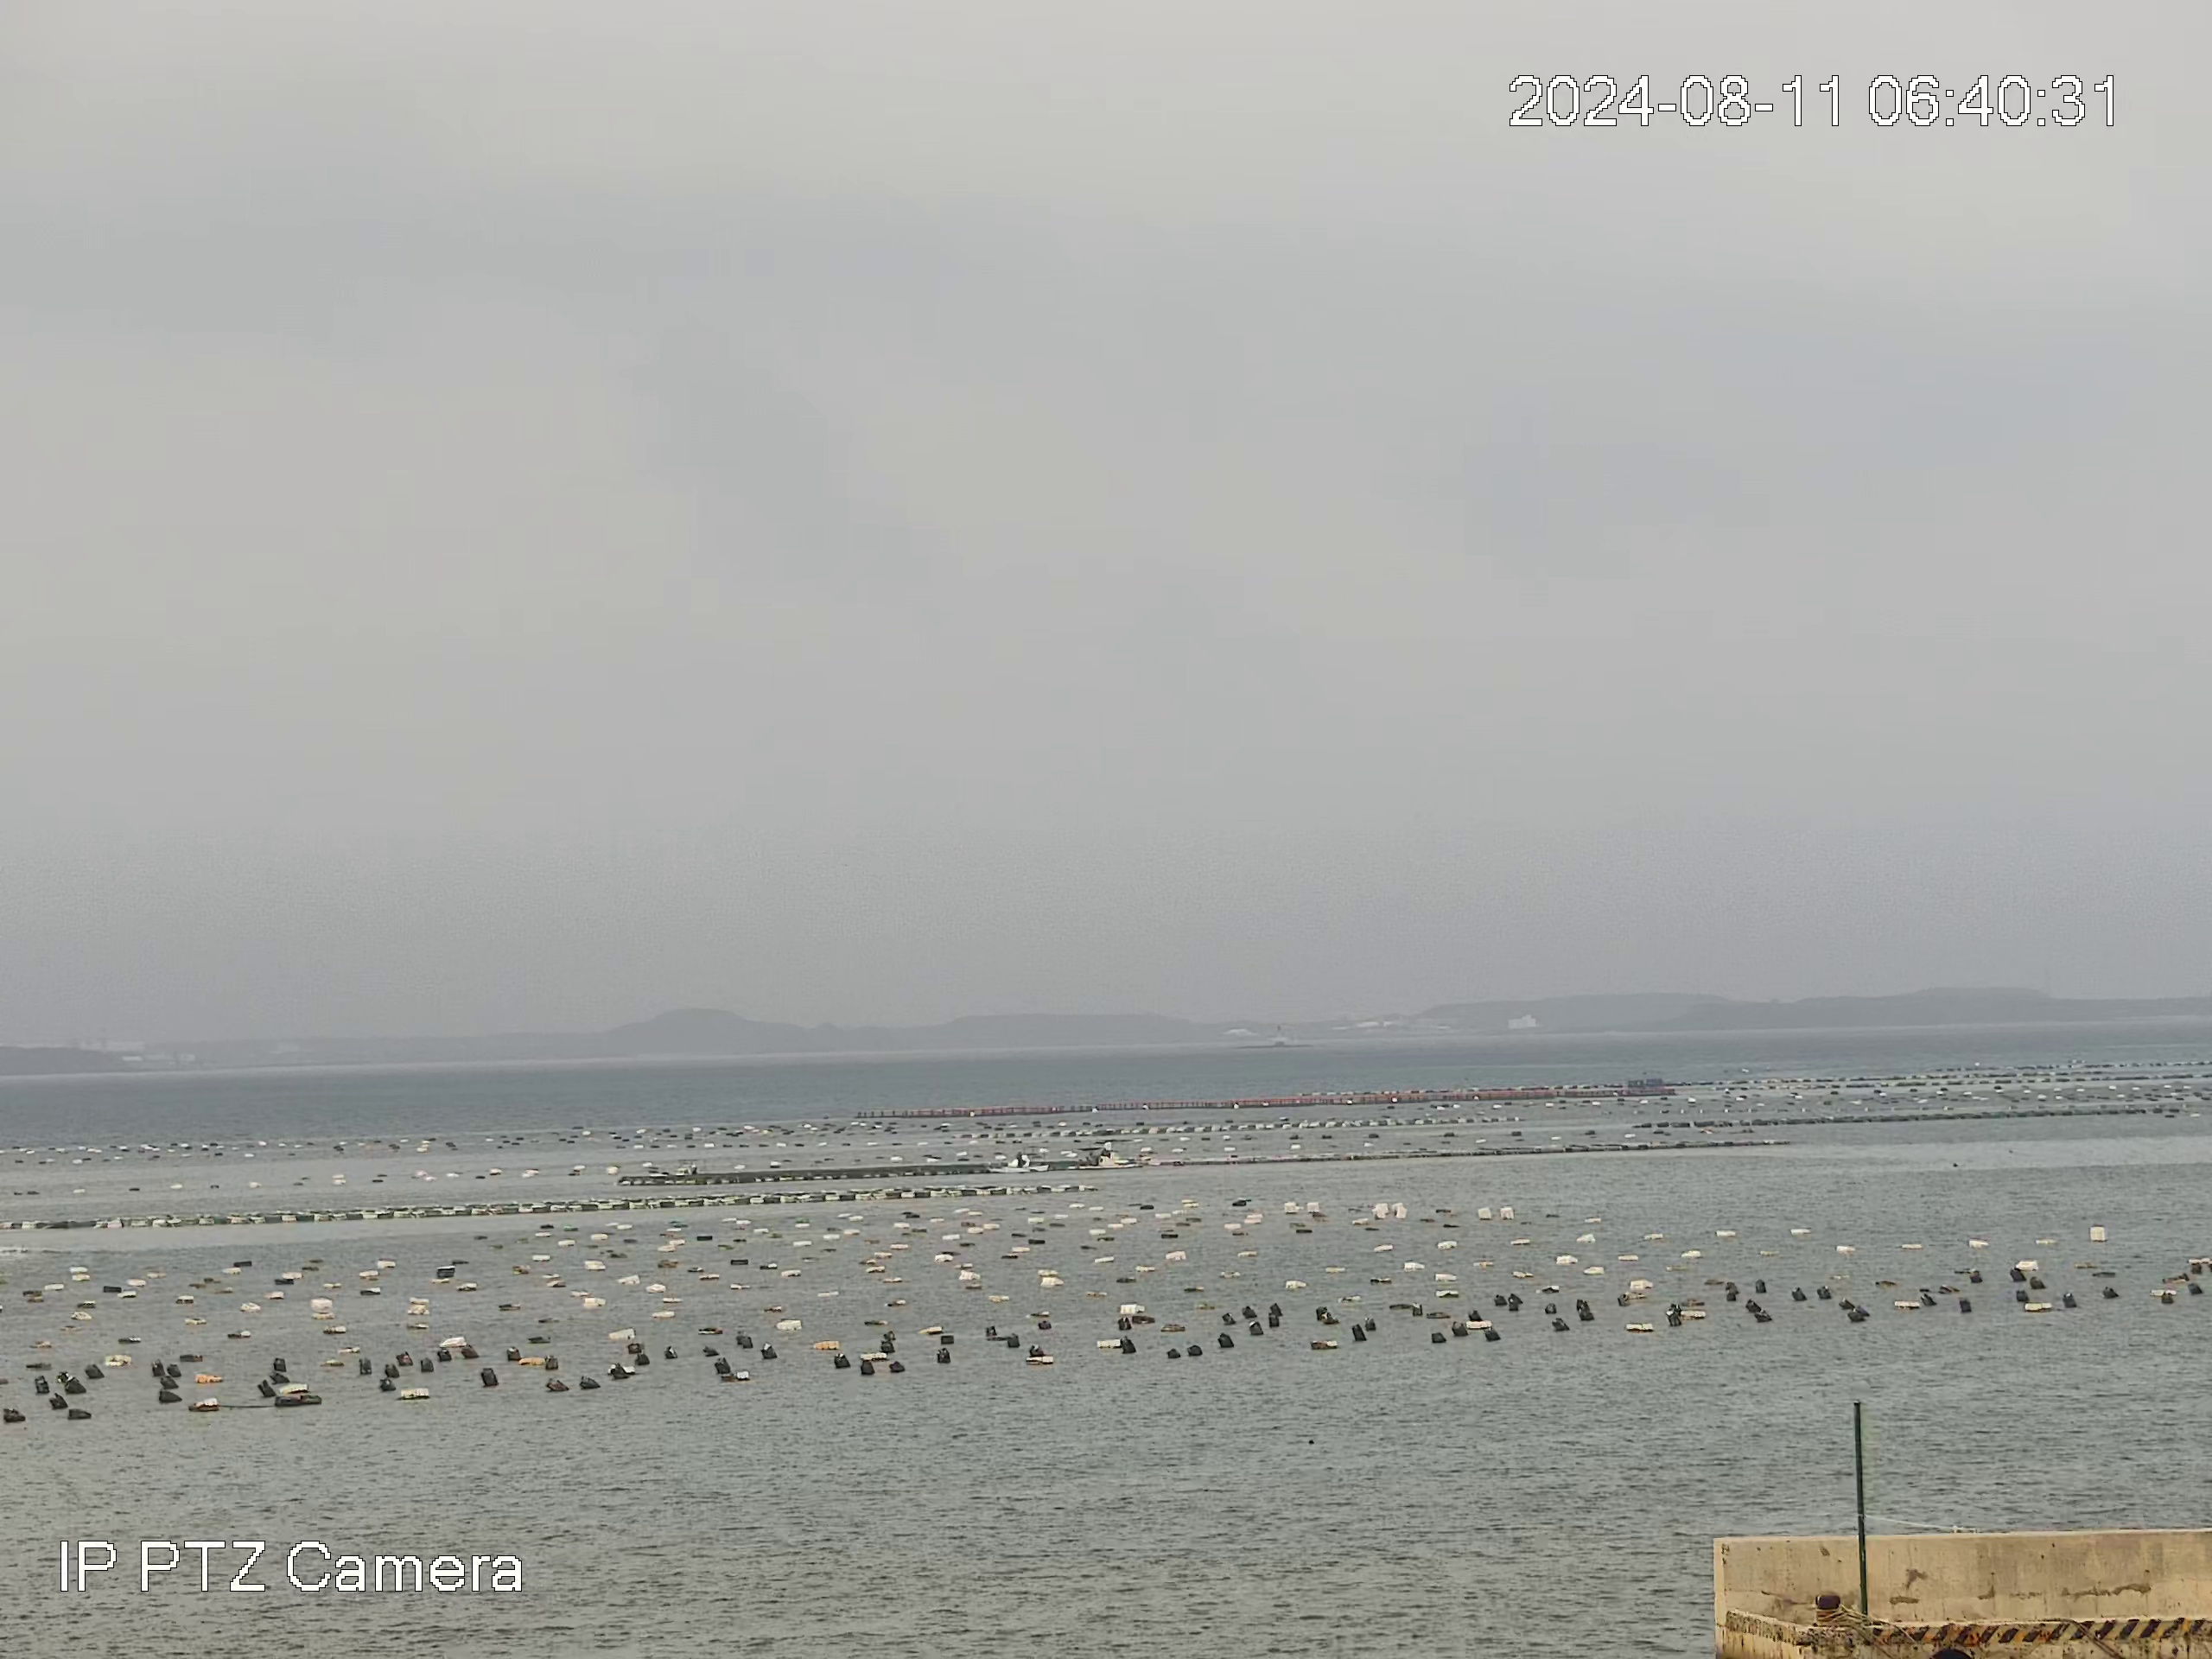boat: (984, 1152, 1050, 1175), (1064, 1145, 1120, 1171)
